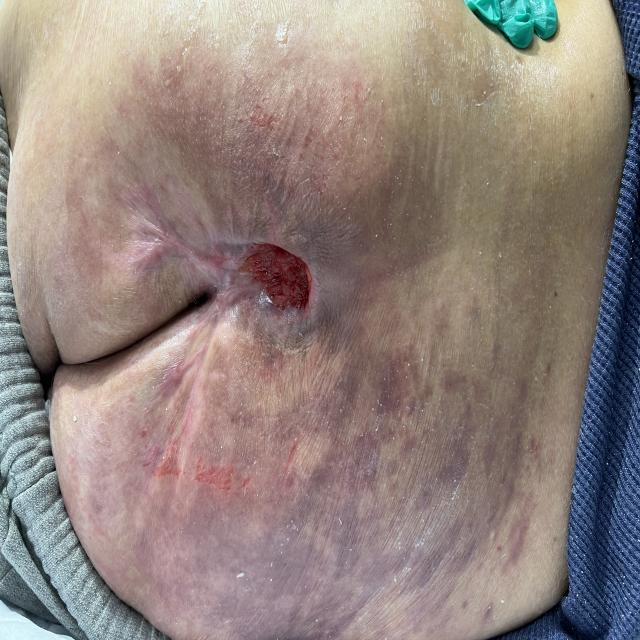stage-3: (240, 243, 310, 308)
